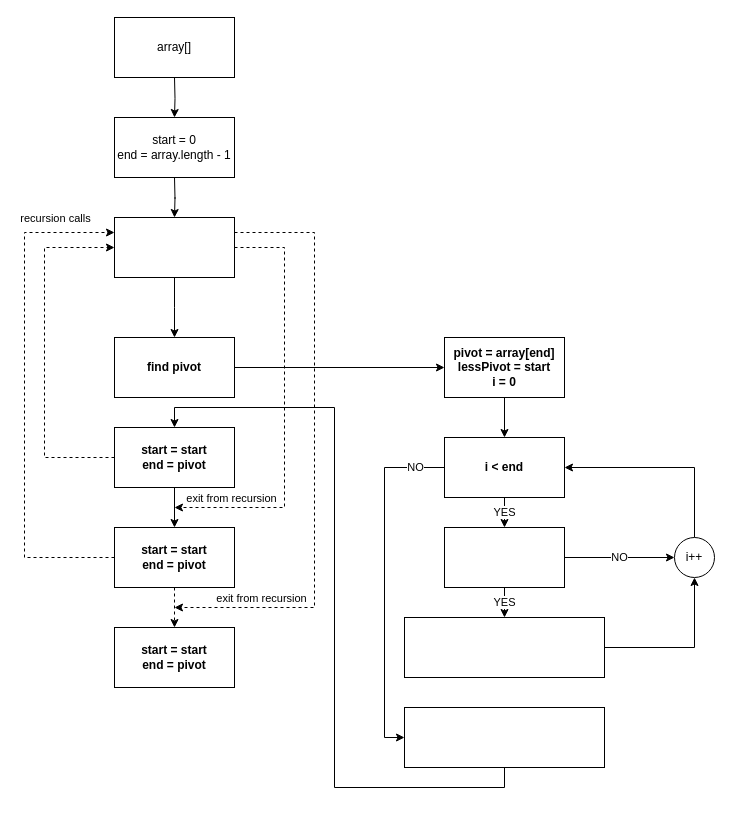
Image size: 732x813. Some labels were removed from this diagram. Each missing label, with the centre of its shape:
"Base case start < end" goes at (x=174, y=247).
"pivot >= array[i]" goes at (x=504, y=557).
"swap(array[lessPivot],array[end]) pivot = lessPivot;" goes at (x=504, y=737).
"swap(array[lessPivot],array[i]) lessPivot++;" goes at (x=504, y=647).
